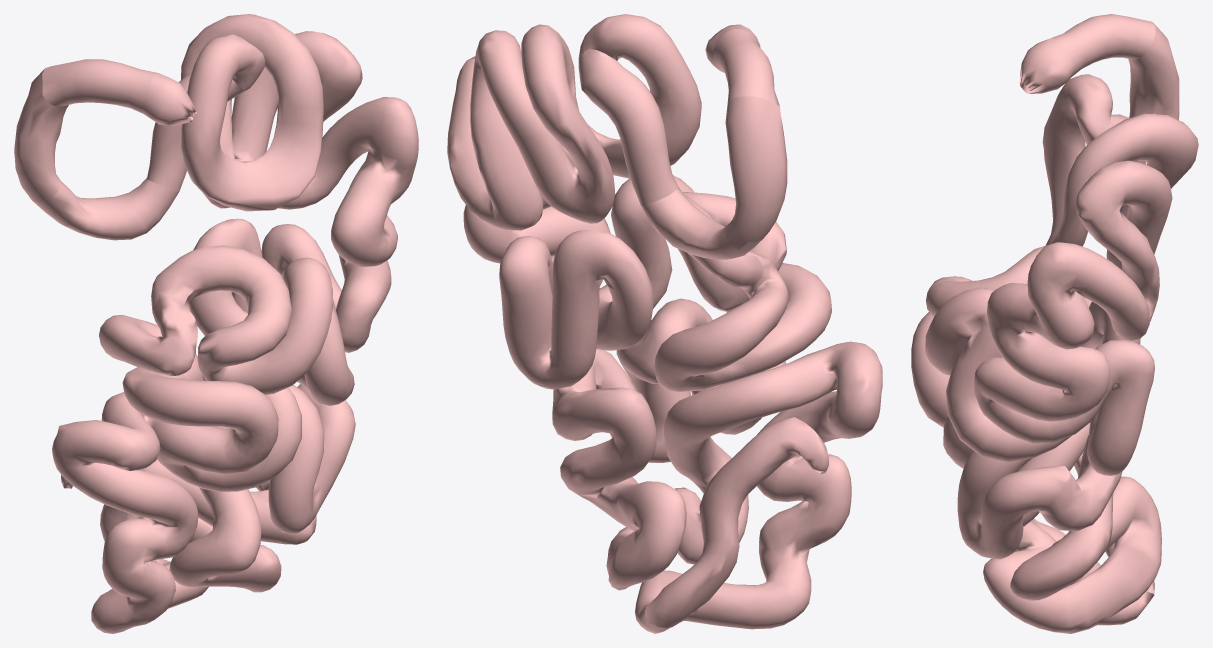
File: vh_m_small_intestine-80.glb
3 views of the same model, side by side, from view 1: azimuth 30°, elevation 25°; view 2: azimuth 150°, elevation 25°; view 3: azimuth 270°, elevation 25° (orthographic). The views are drawn at different scales.
Parts seen in each view (by area): view 1: VH_M_jejunum, VH_M_ileum, VH_M_duodenum_horizonal, VH_M_duodenum_superior, VH_M_duodenum_descending, VH_M_duodenum_ascending, VH_M_duodenal_ampulla, VH_M_ileum_terminal; view 2: VH_M_jejunum, VH_M_ileum, VH_M_ileum_terminal, VH_M_duodenum_descending, VH_M_duodenum_ascending, VH_M_duodenum_horizonal, VH_M_duodenum_superior; view 3: VH_M_jejunum, VH_M_ileum, VH_M_duodenum_superior, VH_M_duodenum_descending, VH_M_duodenal_ampulla.
Part boxes in pixels (x1=…): VH_M_jejunum: x1=99, y1=14, x2=418, y2=405; VH_M_ileum: x1=52, y1=367, x2=355, y2=633; VH_M_duodenum_horizonal: x1=33, y1=178, x2=178, y2=240; VH_M_duodenum_superior: x1=42, y1=59, x2=157, y2=113; VH_M_duodenum_descending: x1=14, y1=69, x2=70, y2=202; VH_M_duodenum_ascending: x1=147, y1=73, x2=246, y2=191; VH_M_duodenal_ampulla: x1=143, y1=73, x2=196, y2=125; VH_M_ileum_terminal: x1=61, y1=469, x2=157, y2=561; VH_M_jejunum: x1=447, y1=14, x2=788, y2=392; VH_M_ileum: x1=552, y1=263, x2=882, y2=633; VH_M_ileum_terminal: x1=644, y1=417, x2=828, y2=627; VH_M_duodenum_descending: x1=725, y1=96, x2=787, y2=249; VH_M_duodenum_ascending: x1=578, y1=49, x2=678, y2=205; VH_M_duodenum_horizonal: x1=641, y1=187, x2=762, y2=259; VH_M_duodenum_superior: x1=713, y1=29, x2=779, y2=105; VH_M_jejunum: x1=925, y1=74, x2=1198, y2=475; VH_M_ileum: x1=911, y1=312, x2=1161, y2=633; VH_M_duodenum_superior: x1=1052, y1=14, x2=1155, y2=77; VH_M_duodenum_descending: x1=1128, y1=23, x2=1179, y2=119; VH_M_duodenal_ampulla: x1=1019, y1=38, x2=1074, y2=93.
Size of the model in its own units: 0.1879 by 0.2654 by 0.1222.
